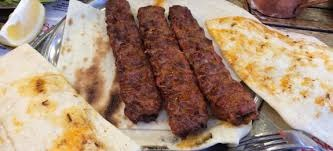kebap: (168, 6, 256, 124), (137, 6, 207, 137), (105, 0, 161, 122)
